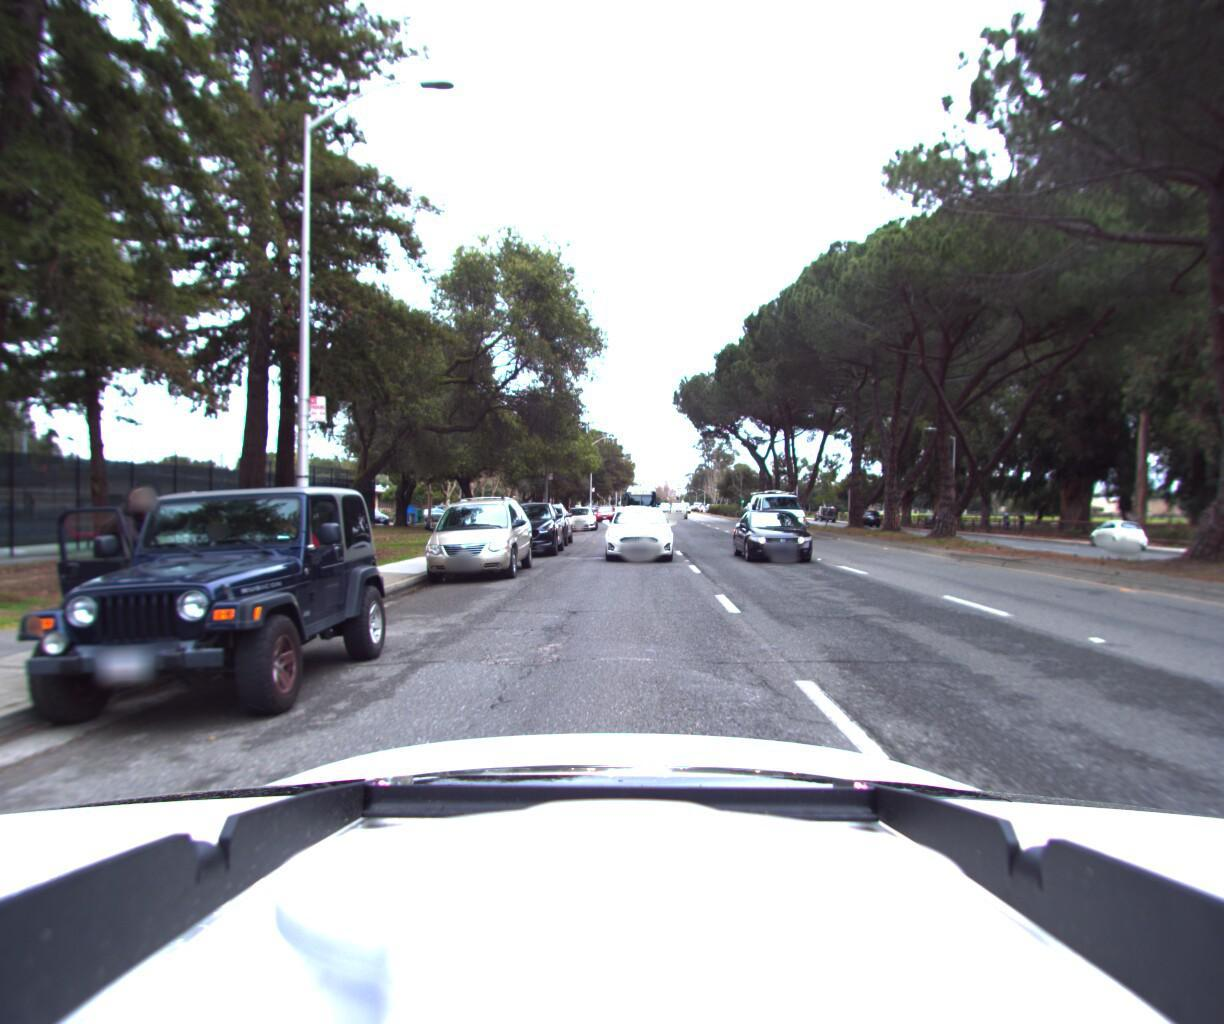car: (0, 470, 385, 756), (408, 493, 535, 583), (732, 510, 821, 570), (487, 498, 566, 558), (603, 504, 677, 564), (748, 486, 811, 537), (513, 500, 572, 548), (1078, 516, 1148, 550), (564, 503, 596, 531), (849, 509, 880, 527), (666, 500, 685, 518), (594, 503, 613, 520)
other_vehicle: (620, 484, 656, 520)
